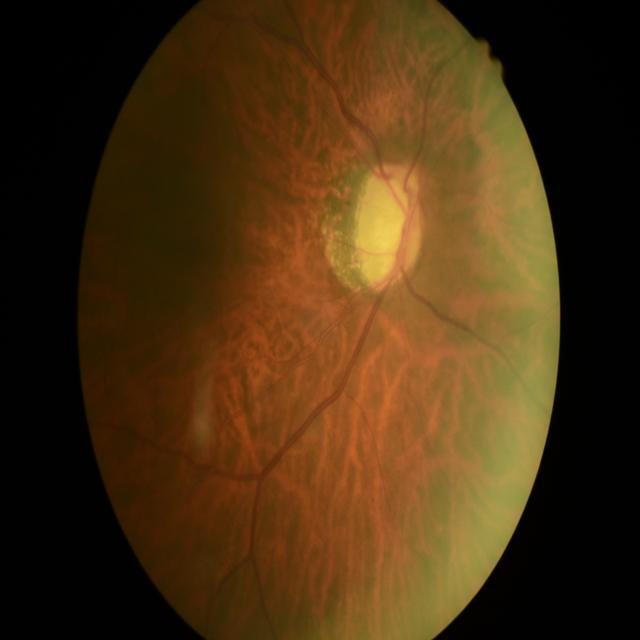cup: (363, 178, 414, 288)
disk: (352, 159, 424, 291)
